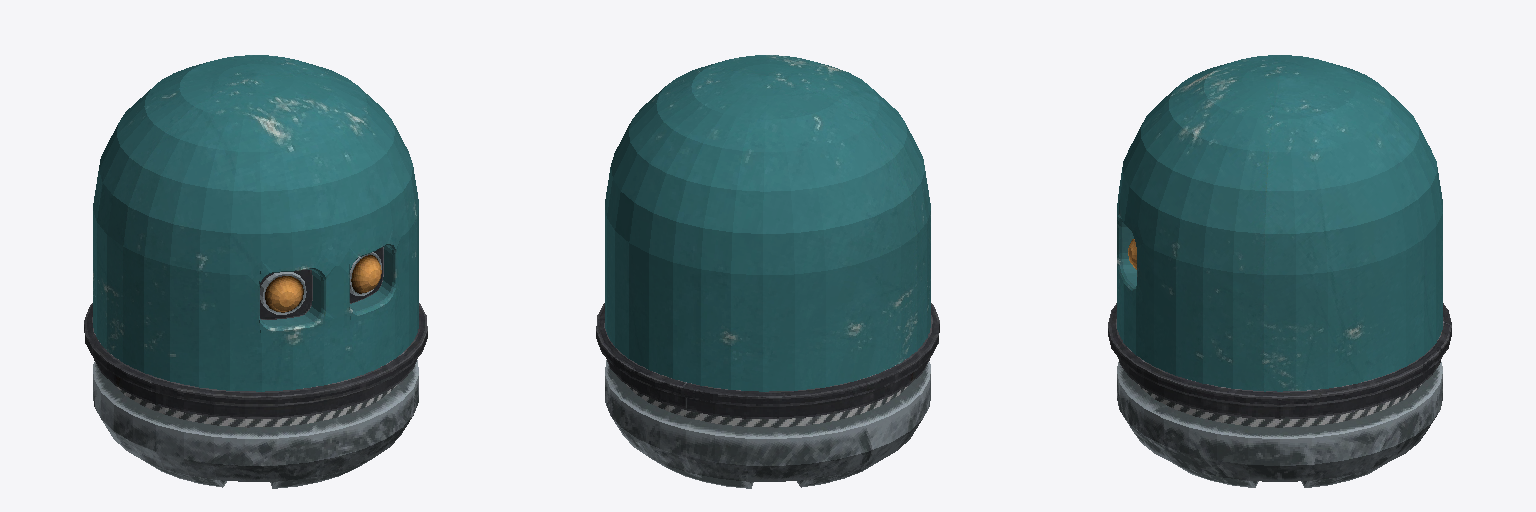
3 views of the same model, side by side, from view 1: azimuth 30°, elevation 25°; view 2: azimuth 150°, elevation 25°; view 3: azimuth 270°, elevation 25° (orthographic).
Parts seen in each view (by area): view 1: Object_480; view 2: Object_480; view 3: Object_480.
Part boxes in pixels (bbox=[...]): Object_480: bbox=[84, 55, 427, 488]; Object_480: bbox=[596, 55, 939, 488]; Object_480: bbox=[1108, 55, 1451, 487].
Bounding box in the file's own units: 0.5006 × 0.5779 × 0.5006.
Materials: 1 (1 with a texture image).